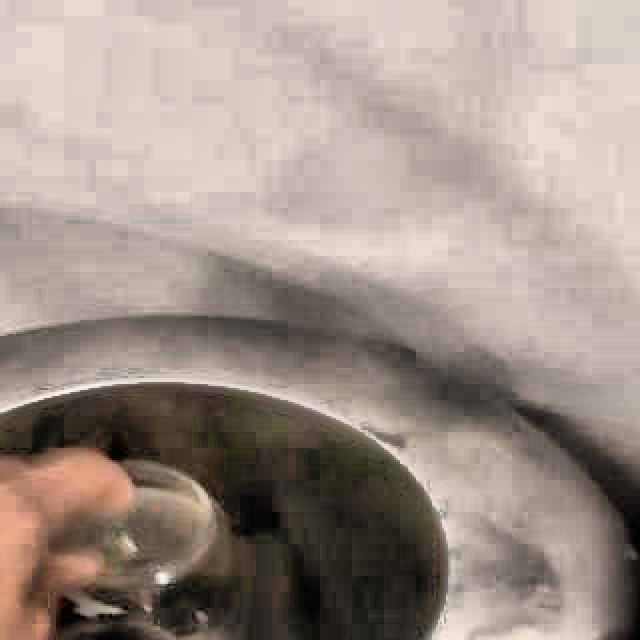glass: (55, 462, 237, 640)
